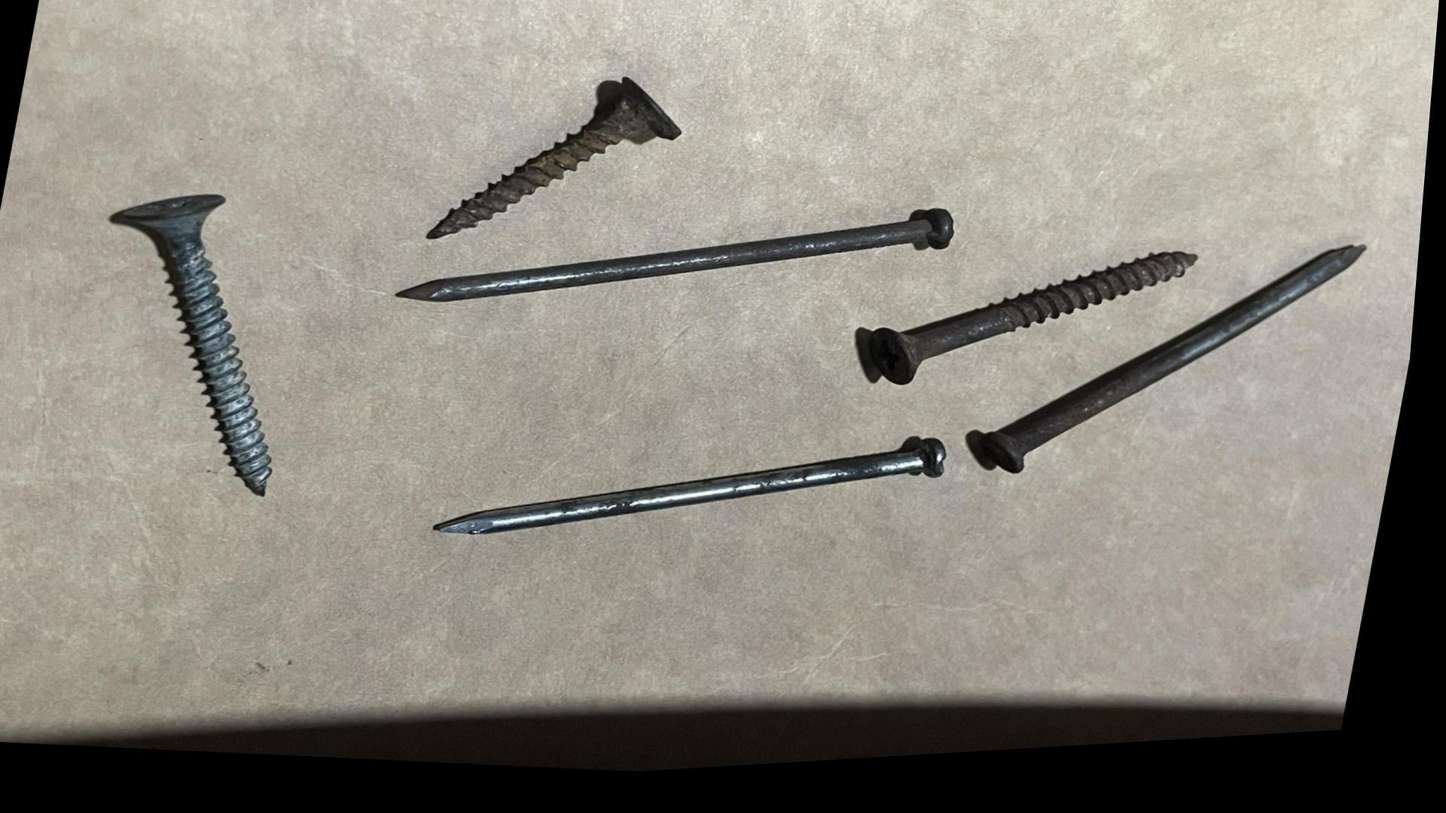nail: (958, 213, 1410, 546), (387, 152, 987, 379), (418, 407, 969, 606)
screw: (49, 138, 348, 521), (819, 219, 1230, 451), (401, 48, 725, 275)
